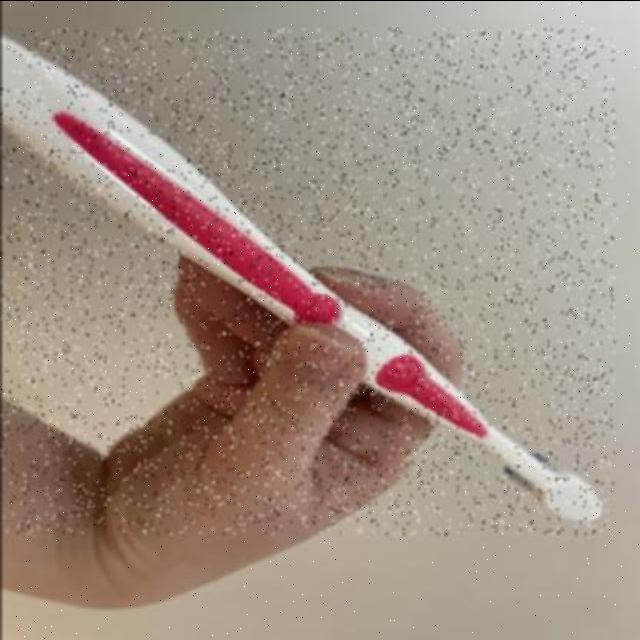toothbrush: (1, 28, 614, 534)
